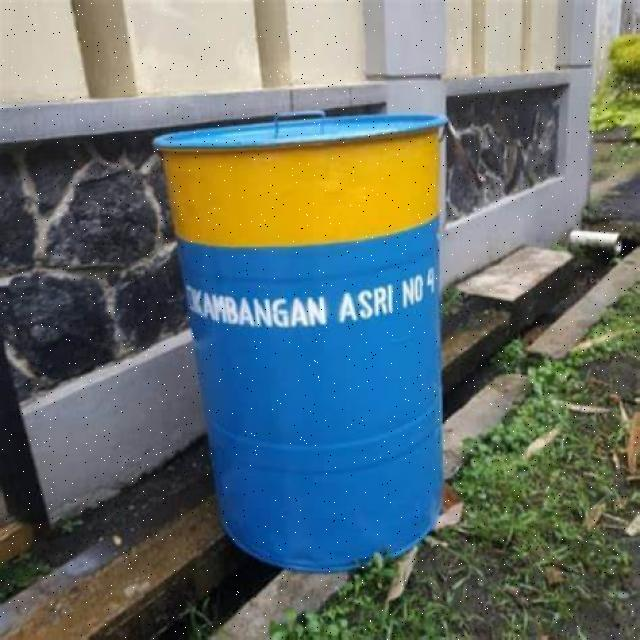garbage container: (122, 102, 467, 580)
